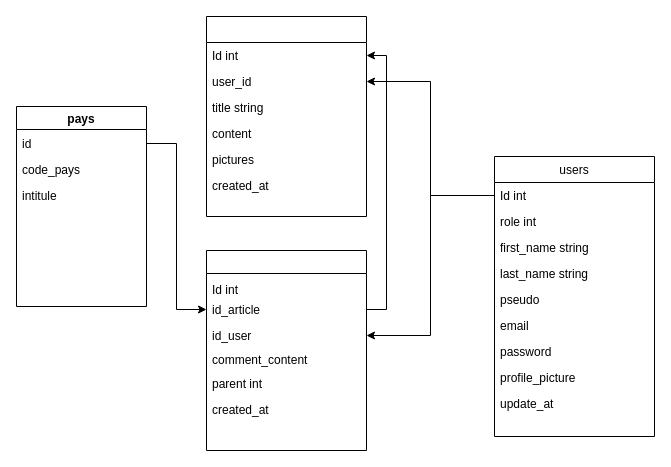
The diagram is 671 pixels wide and 467 high, and some of its shapes have lost their labels. Each missing label, with the box of its shape:
articles: (206, 16, 366, 216)
comments: (206, 250, 366, 450)
